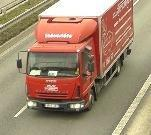truck: (17, 0, 134, 113)
